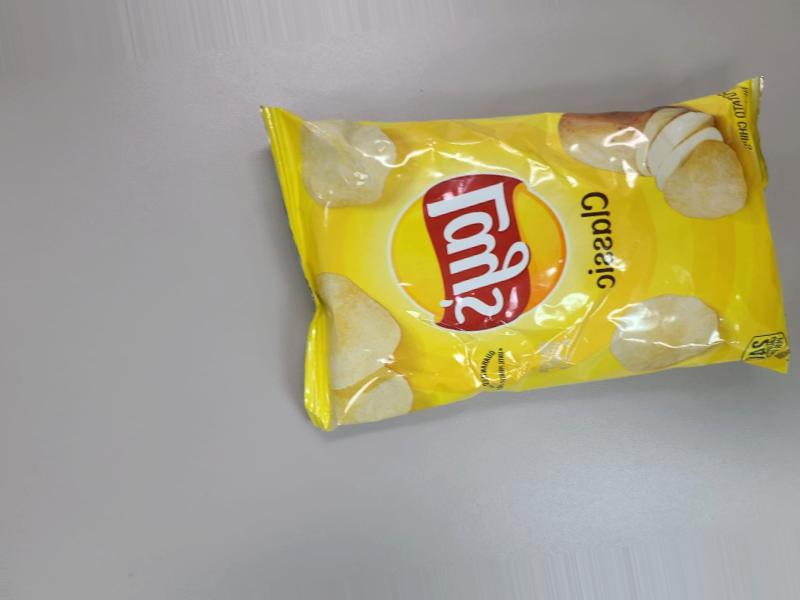lays: (319, 71, 762, 361)
